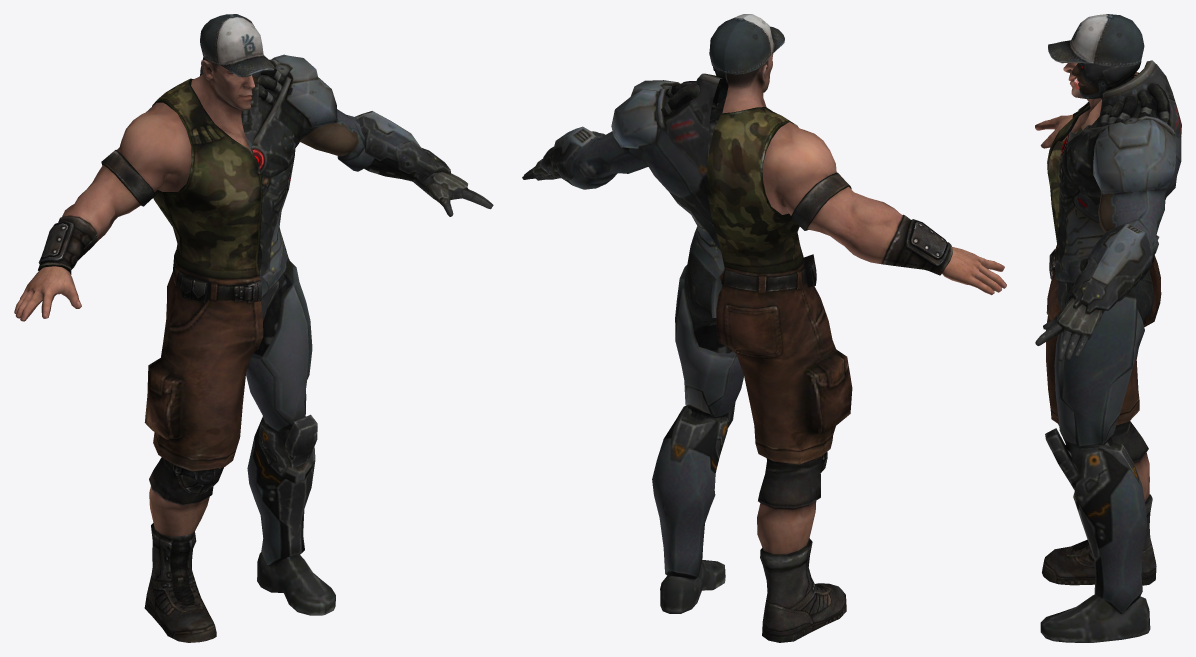
The model's file is CenaBorg.fbx.
3 renders of one model, left to right at view 1: azimuth 30°, elevation 25°; view 2: azimuth 150°, elevation 25°; view 3: azimuth 270°, elevation 25°, orthographic.
Parts seen in each view (by area): view 1: WWE-I_iOS_CHARACTER_John_Cena_Soldier, INJ_iOS_HERO_Victor_Stone_Cyborg_Injustice; view 2: WWE-I_iOS_CHARACTER_John_Cena_Soldier, INJ_iOS_HERO_Victor_Stone_Cyborg_Injustice; view 3: INJ_iOS_HERO_Victor_Stone_Cyborg_Injustice, WWE-I_iOS_CHARACTER_John_Cena_Soldier.
Boxes of the visible parts, x1,y1,x2,y2 form: WWE-I_iOS_CHARACTER_John_Cena_Soldier: (14,14,274,642); INJ_iOS_HERO_Victor_Stone_Cyborg_Injustice: (200,54,493,615); WWE-I_iOS_CHARACTER_John_Cena_Soldier: (707,14,1006,642); INJ_iOS_HERO_Victor_Stone_Cyborg_Injustice: (522,67,743,613); INJ_iOS_HERO_Victor_Stone_Cyborg_Injustice: (1035,59,1181,642); WWE-I_iOS_CHARACTER_John_Cena_Soldier: (1035,14,1166,585).
Bounding box in the file's own units: 170 × 202 × 45.69.
